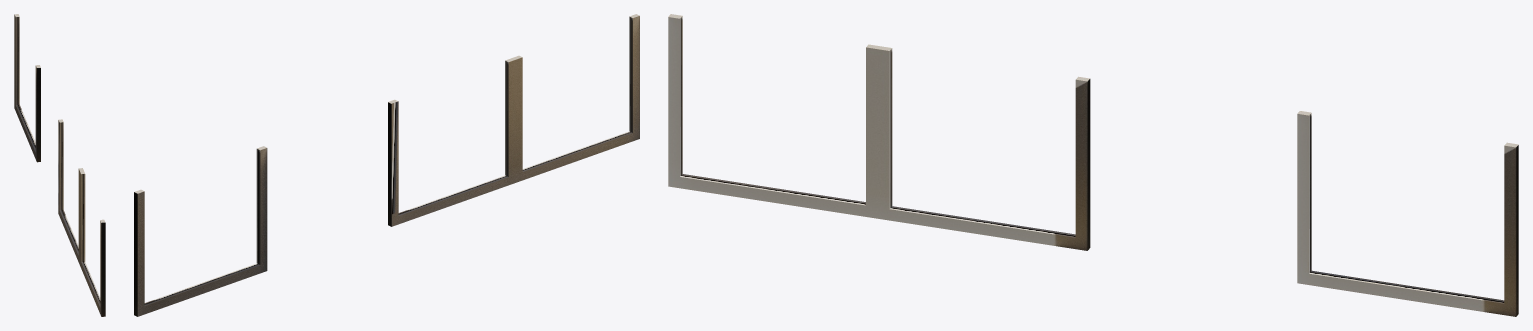
The model's file is Building_05_L03_Ap_02_Frames.fbx.
The picture shows the model from 3 angles, left to right: view 1: azimuth 30°, elevation 25°; view 2: azimuth 150°, elevation 25°; view 3: azimuth 270°, elevation 25°; orthographic projection. The views are drawn at different scales.
Visible parts, largest first — view 1: Building_05_L03_Ap_02_Frames; view 2: Building_05_L03_Ap_02_Frames; view 3: Building_05_L03_Ap_02_Frames.
Part boxes in pixels (<box>): Building_05_L03_Ap_02_Frames: <box>14,14,105,316</box>; Building_05_L03_Ap_02_Frames: <box>134,14,639,316</box>; Building_05_L03_Ap_02_Frames: <box>668,14,1518,316</box>.
Bounding box in the file's own units: 2.51 × 1.48 × 6.75.
1 material, 1 textured.
